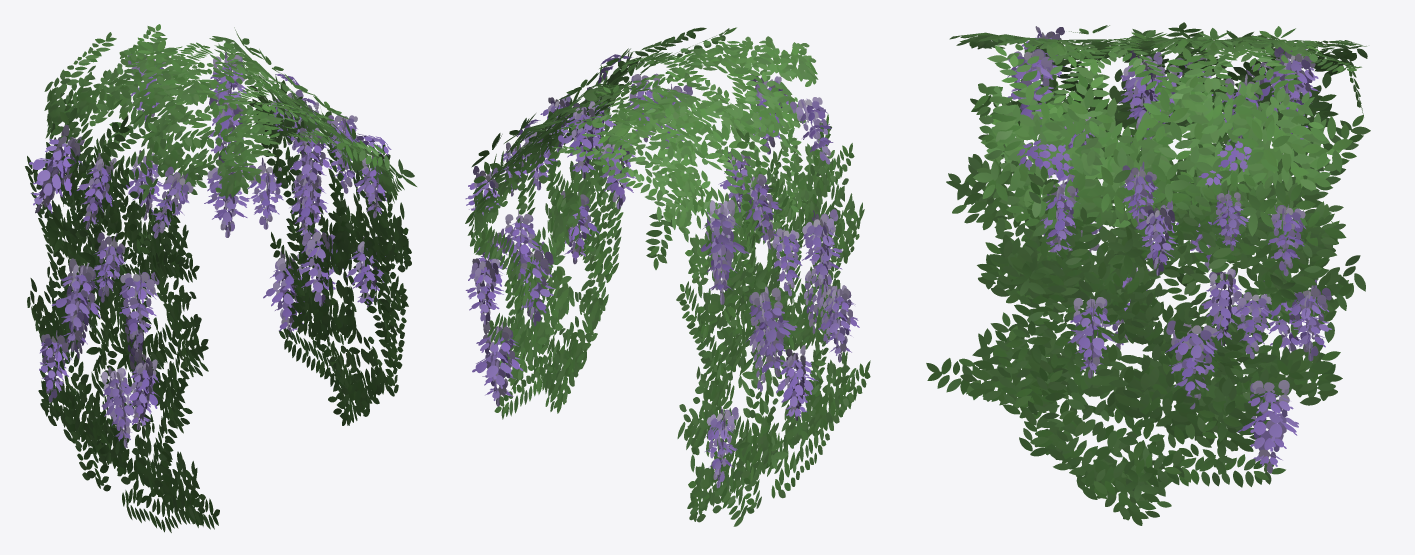
The model's file is SM_Prop_Trellis_02_Insert_01.fbx.
3 renders of one model, left to right at view 1: azimuth 30°, elevation 25°; view 2: azimuth 150°, elevation 25°; view 3: azimuth 270°, elevation 25°, orthographic. The views are drawn at different scales.
Visible parts, largest first — view 1: SM_Prop_Trellis_02_Insert_01_LOD0; view 2: SM_Prop_Trellis_02_Insert_01_LOD0; view 3: SM_Prop_Trellis_02_Insert_01_LOD0.
Boxes of the visible parts, <box> form: SM_Prop_Trellis_02_Insert_01_LOD0: <box>25,24,416,532</box>; SM_Prop_Trellis_02_Insert_01_LOD0: <box>465,27,870,526</box>; SM_Prop_Trellis_02_Insert_01_LOD0: <box>926,22,1370,525</box>.
Size of what is drawn, in the model's own units: 298 by 393 by 362.
